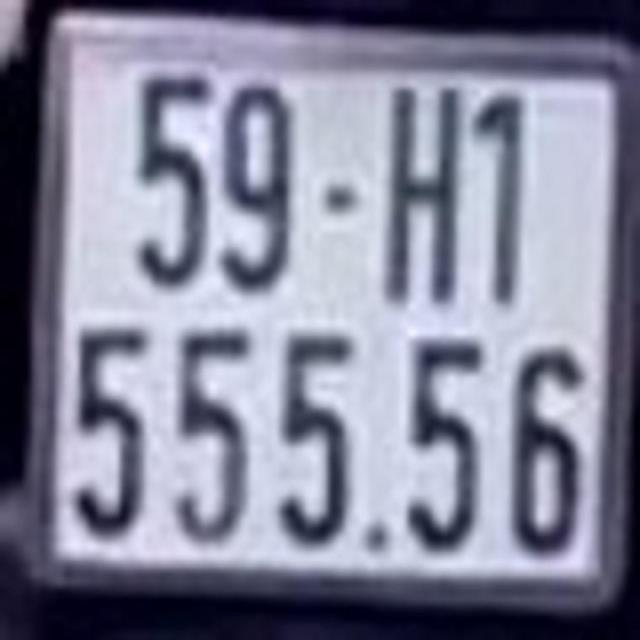1: (470, 86, 525, 302)
5: (408, 331, 483, 559), (176, 329, 254, 545), (137, 70, 210, 286), (75, 322, 145, 533), (287, 329, 353, 545)
6: (515, 344, 586, 560)
9: (225, 84, 290, 287)
H: (391, 85, 460, 306)
